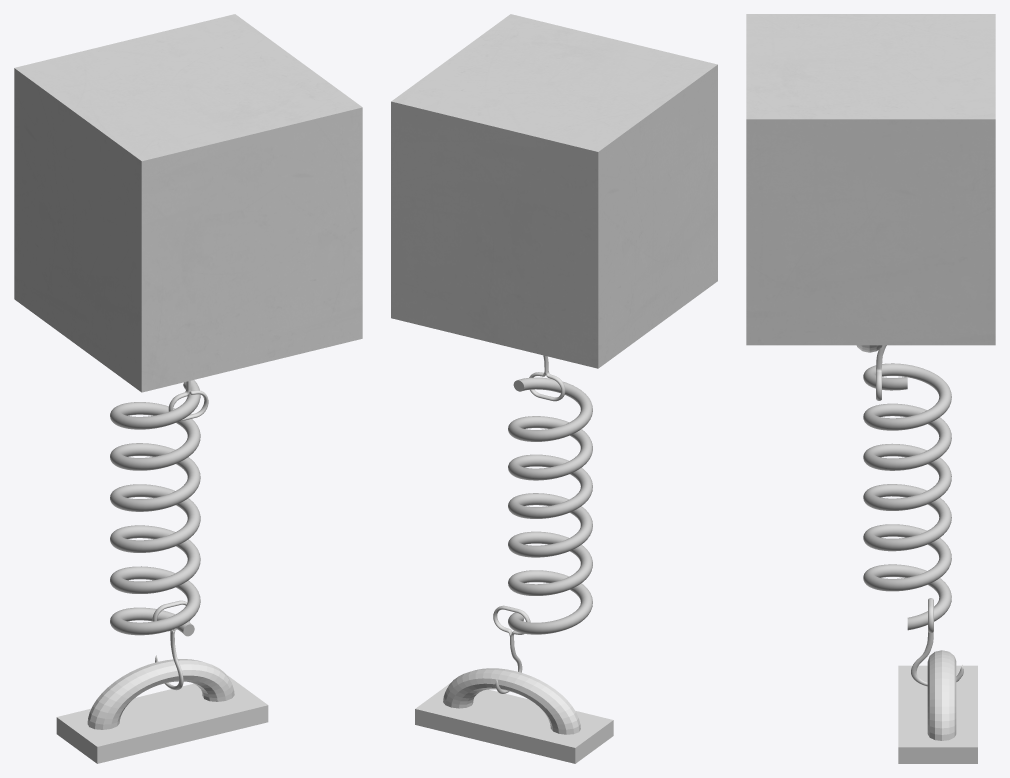
Rendered from eyeclasphookspringboxset.fbx.
The picture shows the model from 3 angles, left to right: view 1: azimuth 30°, elevation 25°; view 2: azimuth 150°, elevation 25°; view 3: azimuth 270°, elevation 25°; orthographic projection. The views are drawn at different scales.
Visible parts, largest first — view 1: Cube.001, Torus, Body1; view 2: Cube.001, Torus, Body1; view 3: Cube.001, Body1, Torus.
Boxes of the visible parts, x1,y1,x2,y2 form: Cube.001: (14,14,362,421); Torus: (56,600,268,763); Body1: (110,380,200,636); Cube.001: (391,14,717,401); Torus: (415,605,613,763); Body1: (508,377,592,634); Cube.001: (746,14,995,400); Body1: (863,363,951,630); Torus: (898,598,977,763).
Bounding box in the file's own units: 100 × 289 × 100.
